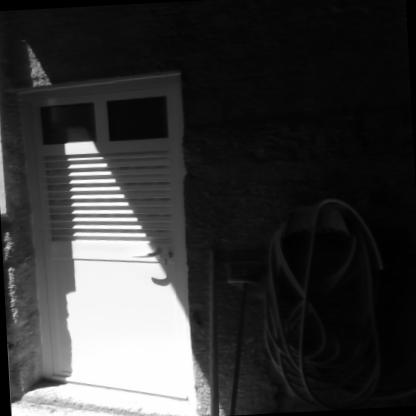closed: (8, 54, 204, 402)
